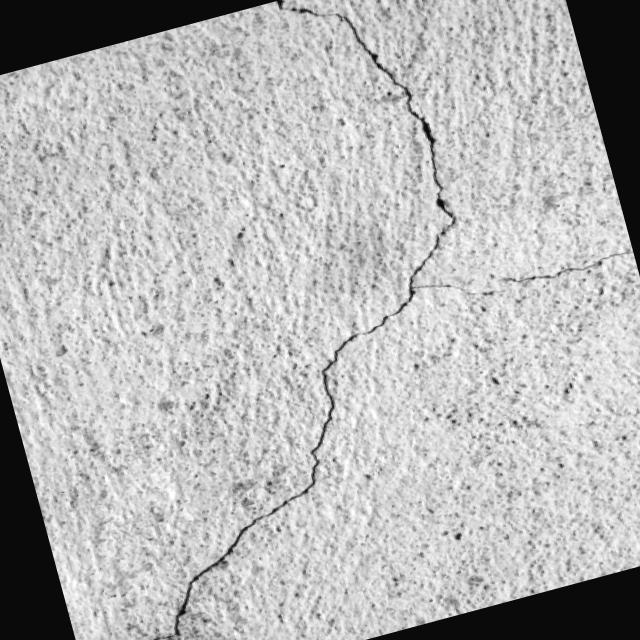crack: (75, 333, 432, 640), (268, 0, 480, 341), (474, 240, 636, 302)
